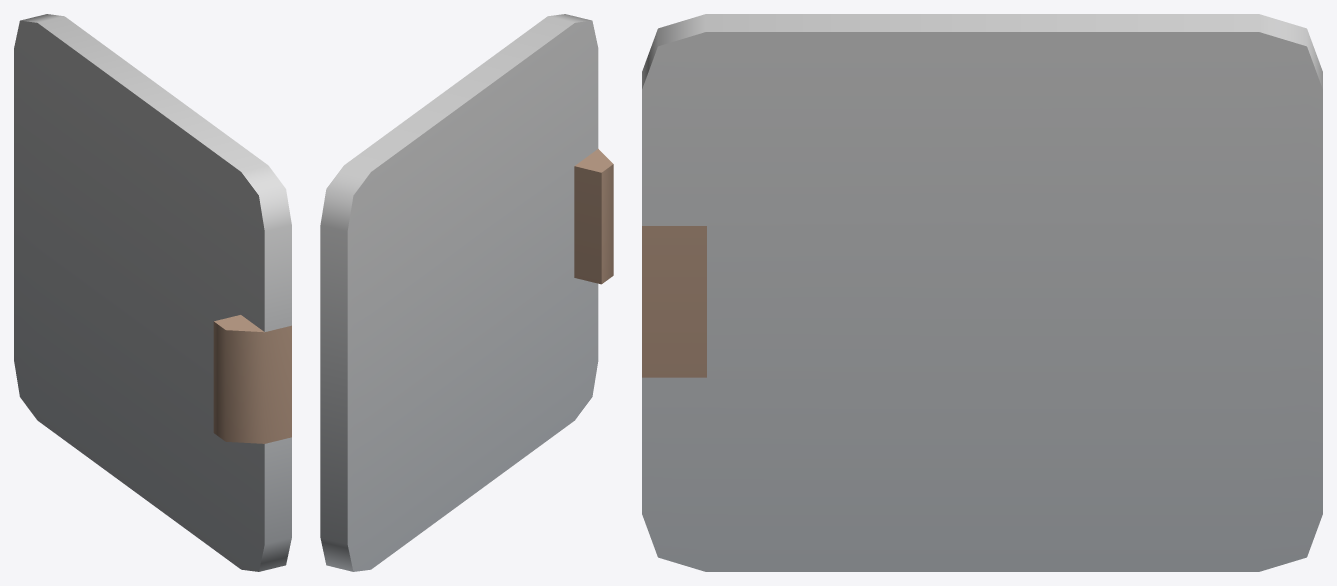
The model's file is (%no-merge) (%open-left) 1.glb.
3 views of the same model, side by side, from view 1: azimuth 30°, elevation 25°; view 2: azimuth 150°, elevation 25°; view 3: azimuth 270°, elevation 25° (orthographic). The views are drawn at different scales.
Visible parts, largest first — view 1: (%no-merge) (%open-left) 1(Clone); view 2: (%no-merge) (%open-left) 1(Clone); view 3: (%no-merge) (%open-left) 1(Clone).
Boxes of the visible parts, left/top/right/bottom form: (%no-merge) (%open-left) 1(Clone): left=14, top=14, right=291, bottom=571; (%no-merge) (%open-left) 1(Clone): left=320, top=14, right=613, bottom=571; (%no-merge) (%open-left) 1(Clone): left=642, top=14, right=1322, bottom=571.
Bounding box in the file's own units: 0.05 × 0.35 × 0.4.
